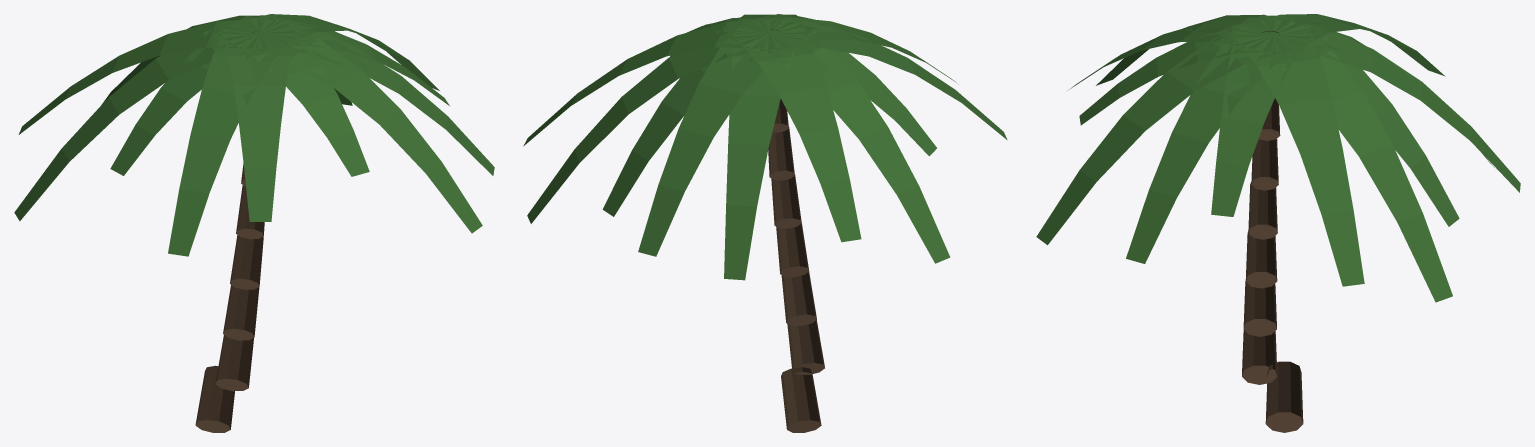
File: tree-palm-3.glb
The picture shows the model from 3 angles, left to right: view 1: azimuth 30°, elevation 25°; view 2: azimuth 150°, elevation 25°; view 3: azimuth 270°, elevation 25°; orthographic projection. The views are drawn at different scales.
Visible parts, largest first — view 1: tree-palm-3; view 2: tree-palm-3; view 3: tree-palm-3.
Boxes of the visible parts, bbox=[...] form: tree-palm-3: bbox=[14, 14, 494, 432]; tree-palm-3: bbox=[523, 14, 1007, 432]; tree-palm-3: bbox=[1036, 14, 1520, 432].
Size of the model in its own units: 5.67 by 4.96 by 5.29.
